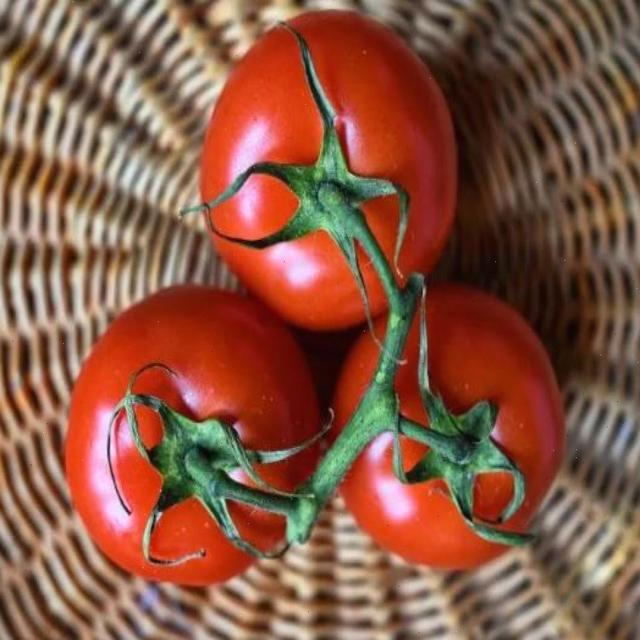Healthy Fruit: (164, 124, 301, 294)
